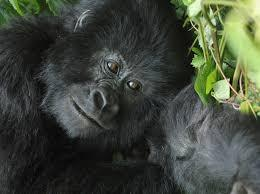goriile_montagne: (3, 0, 190, 194)
